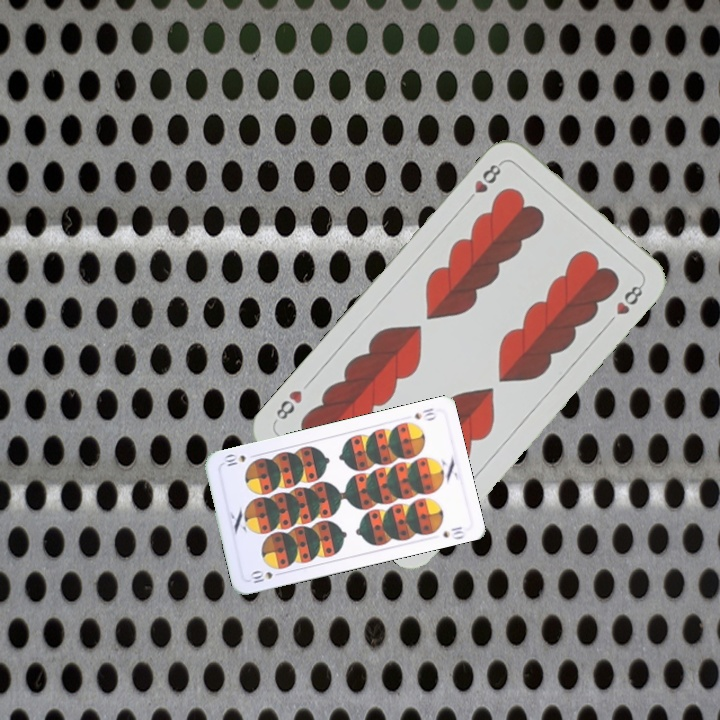H8: (462, 158, 505, 207)
S10: (246, 567, 286, 586), (410, 404, 439, 423)
